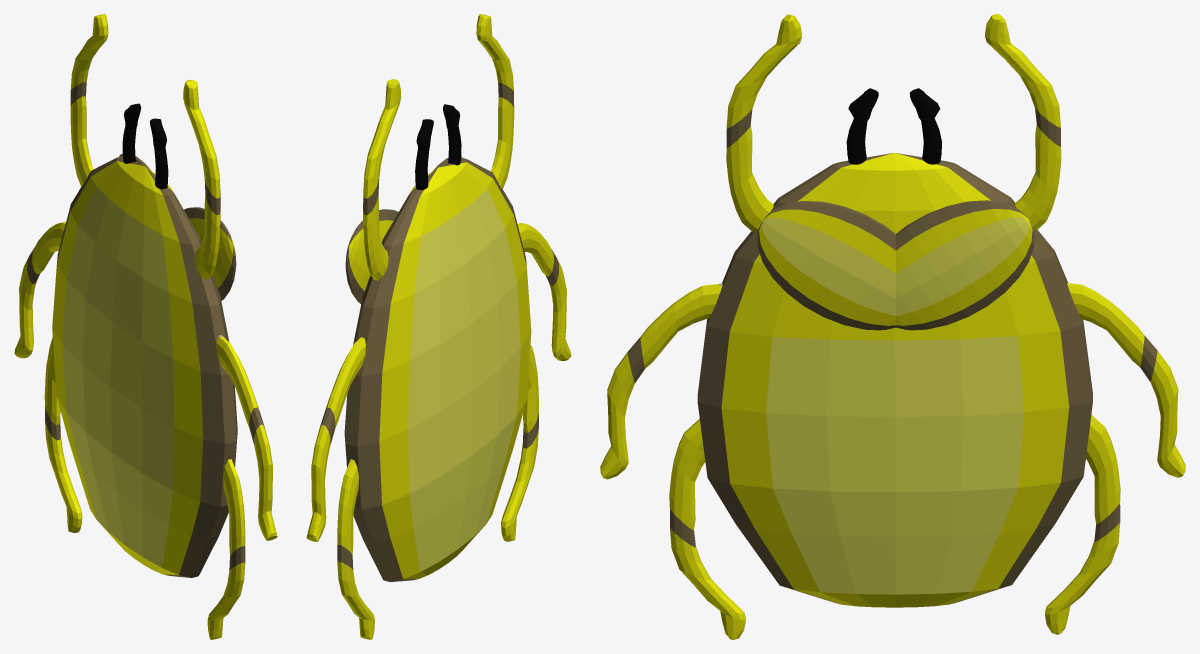
The model's file is escarabajo2.fbx.
3 renders of one model, left to right at view 1: azimuth 30°, elevation 25°; view 2: azimuth 150°, elevation 25°; view 3: azimuth 270°, elevation 25°, orthographic. The views are drawn at different scales.
Visible parts, largest first — view 1: pasted__pasted__pasted__pasted__pCylinder1; view 2: pasted__pasted__pasted__pasted__pCylinder1; view 3: pasted__pasted__pasted__pasted__pCylinder1.
Part boxes in pixels (x1=…): pasted__pasted__pasted__pasted__pCylinder1: x1=14, y1=14, x2=277, y2=639; pasted__pasted__pasted__pasted__pCylinder1: x1=306, y1=14, x2=571, y2=639; pasted__pasted__pasted__pasted__pCylinder1: x1=600, y1=14, x2=1185, y2=639.
Bounding box in the file's own units: 42.01 × 296 × 252.
